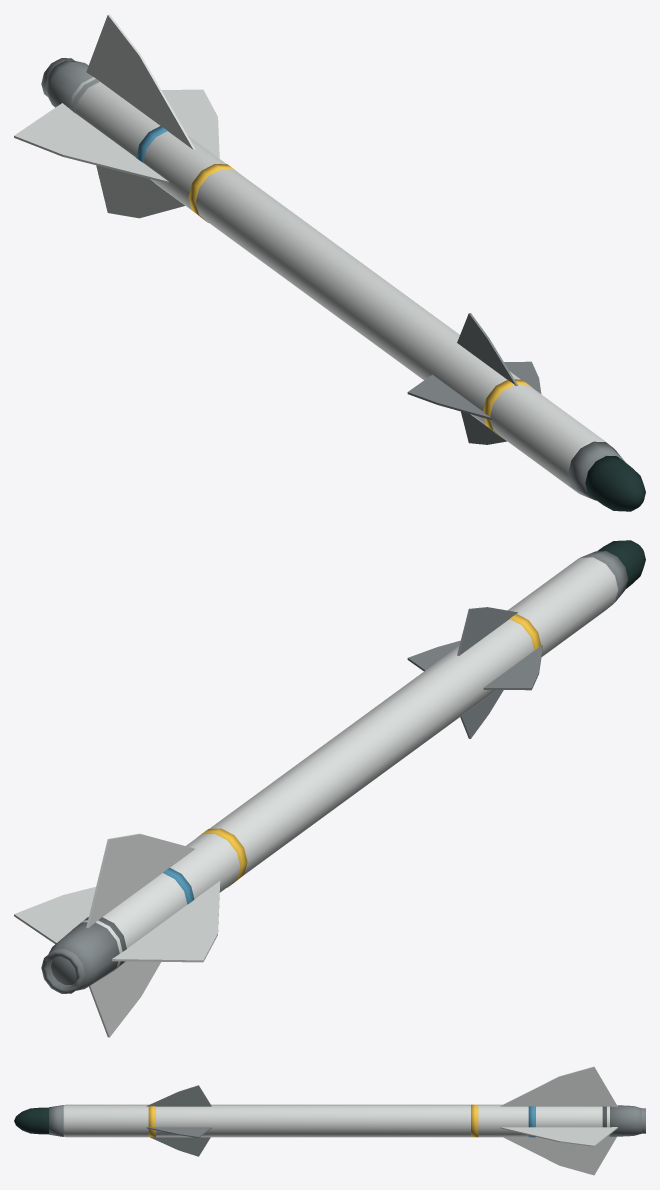
File: FT_IR_Missile_LOD2.glb
3 views of the same model, one above another, from view 1: azimuth 30°, elevation 25°; view 2: azimuth 150°, elevation 25°; view 3: azimuth 270°, elevation 25° (orthographic). The views are drawn at different scales.
Parts seen in each view (by area): view 1: FT_IR_Missile_LOD2; view 2: FT_IR_Missile_LOD2; view 3: FT_IR_Missile_LOD2.
Part boxes in pixels (<box>): FT_IR_Missile_LOD2: <box>14,14,645,511</box>; FT_IR_Missile_LOD2: <box>14,540,645,1037</box>; FT_IR_Missile_LOD2: <box>14,1066,645,1175</box>.
Size of the model in its own units: 0.58 by 0.58 by 3.06.
